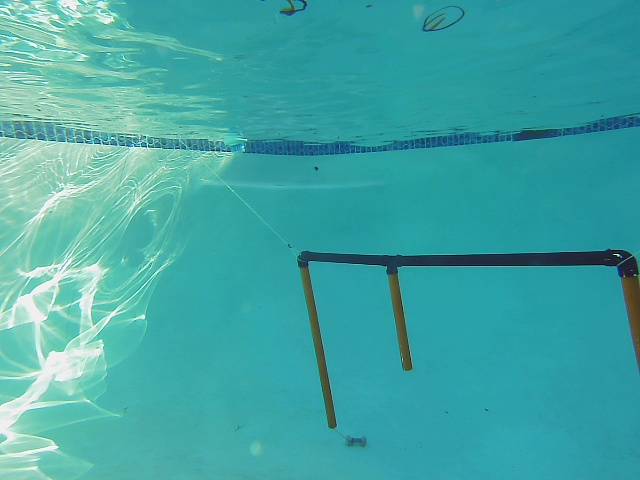Gate: (295, 260, 339, 432), (385, 267, 414, 376), (622, 272, 640, 365)
